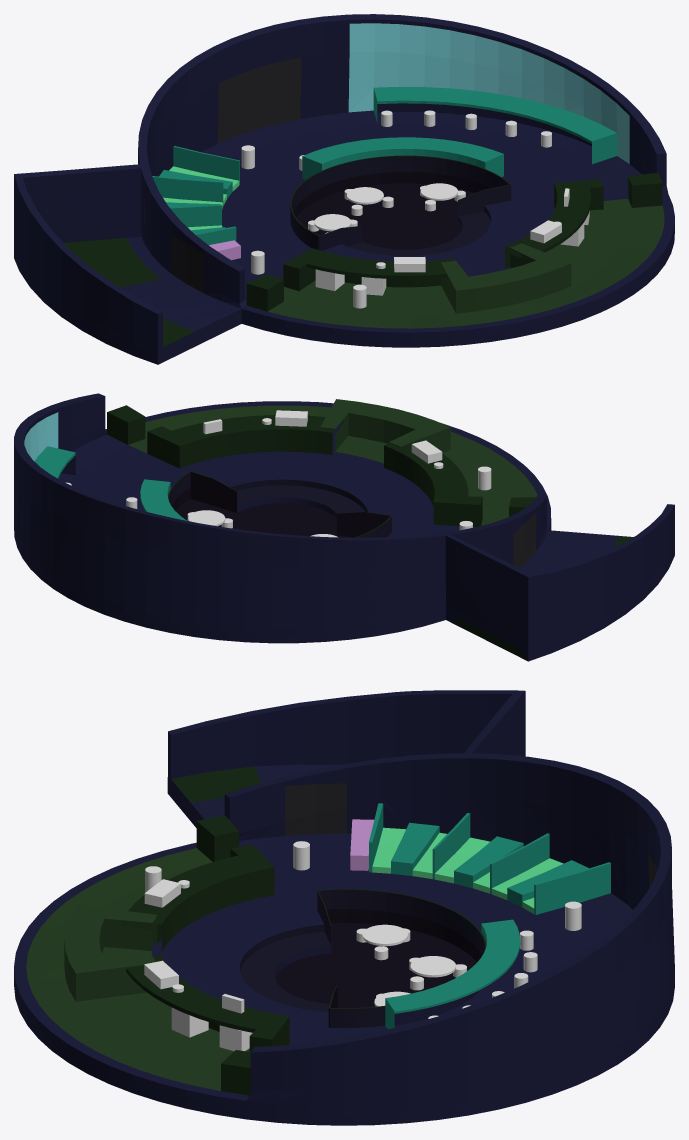
Rendered from Level1_GR.fbx.
3 views of the same model, one above another, from view 1: azimuth 30°, elevation 25°; view 2: azimuth 150°, elevation 25°; view 3: azimuth 270°, elevation 25° (orthographic). The views are drawn at different scales.
Parts seen in each view (by area): view 1: Cylinder002, Cylinder003, Cylinder005; view 2: Cylinder002, Box005, Box006, Cylinder005; view 3: Cylinder002, Cylinder003, Cylinder004, Box006, Box001, Box005, Box002.
Part boxes in pixels (box(x1,y1,x2,y2)): Cylinder002: box(14, 14, 674, 364); Cylinder003: box(347, 187, 383, 204); Cylinder005: box(421, 183, 457, 200); Cylinder002: box(14, 393, 674, 661); Box005: box(275, 410, 307, 426); Box006: box(411, 440, 442, 463); Cylinder005: box(188, 510, 225, 526); Cylinder002: box(14, 690, 674, 1125); Cylinder003: box(410, 956, 455, 977); Cylinder004: box(362, 924, 407, 946); Box006: box(144, 879, 180, 907); Box001: box(171, 1007, 208, 1037); Box005: box(144, 960, 178, 989); Box002: box(219, 1025, 252, 1051).
Bounding box in the file's own units: 201 × 37.25 × 162.
